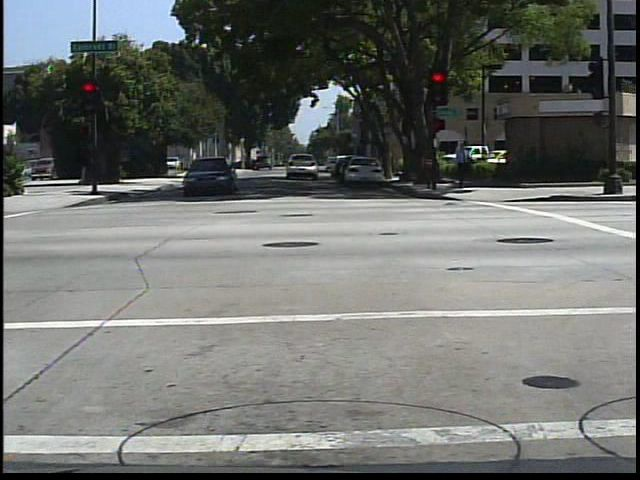person: (451, 139, 475, 194)
